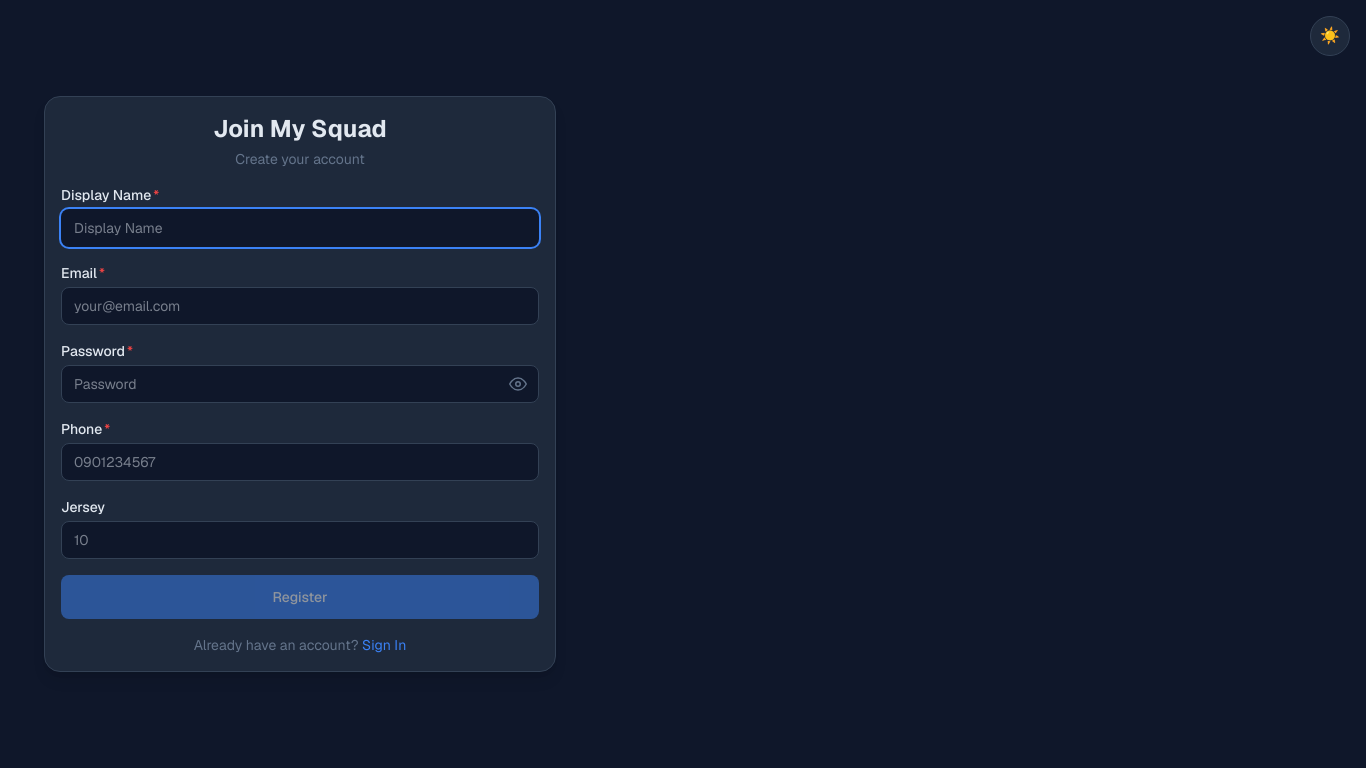
it: RegisterPage › phone validation › should show error when phone is empty and blurred
Click the field labelled "Phone" at (300, 462), box [61,443,539,481]
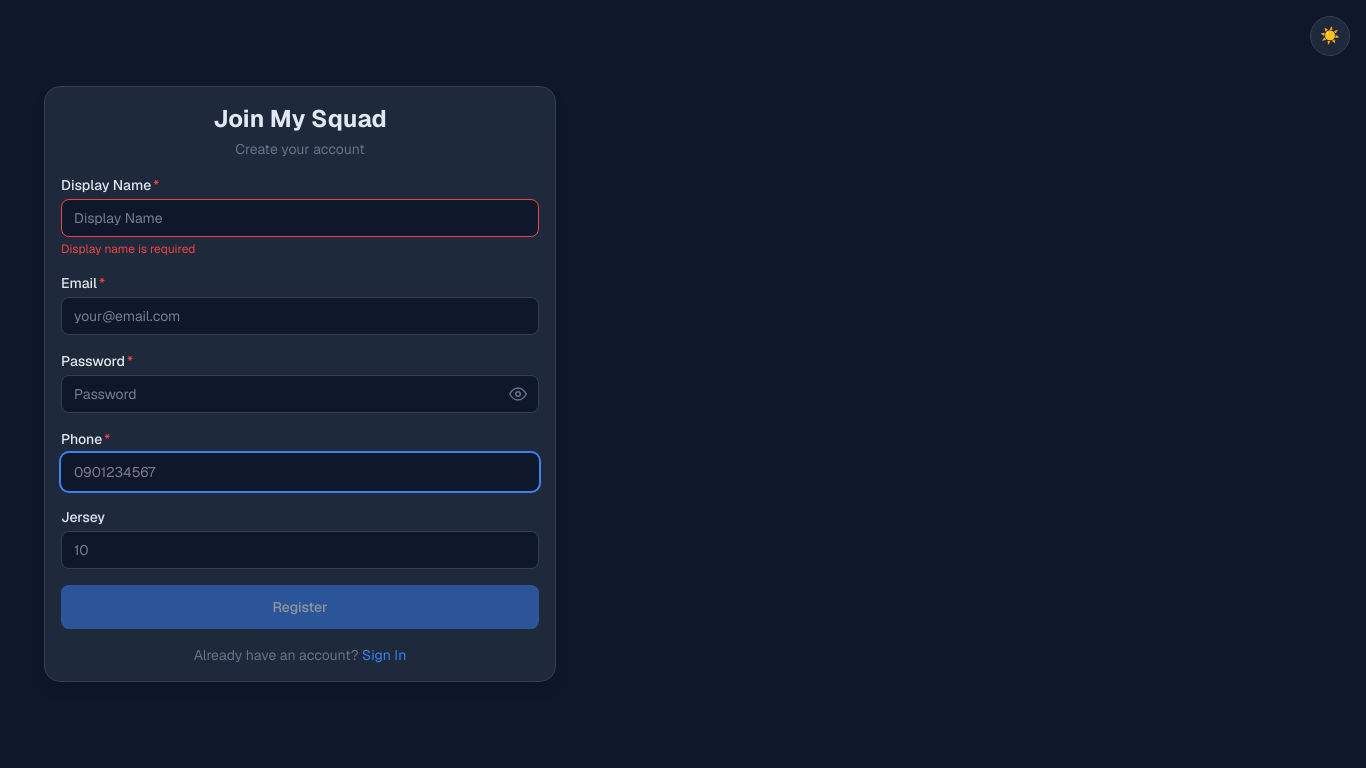
Press Tab
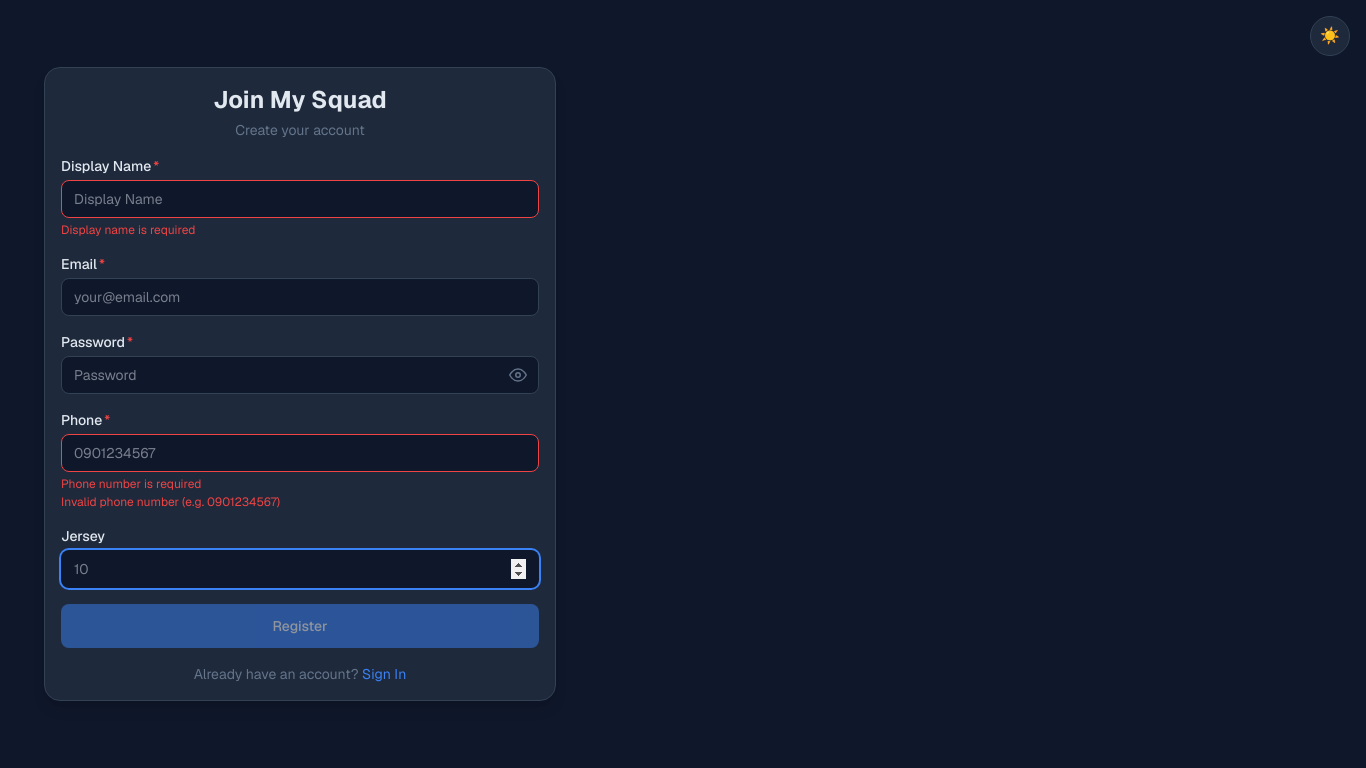
Expected: the list item "Phone number is required" is shown, [61,476,201,492]
